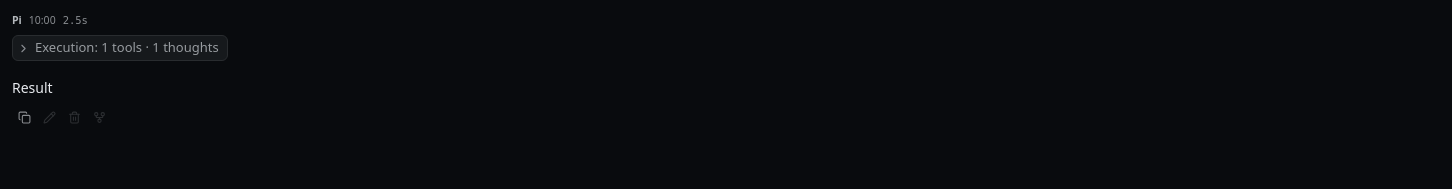
ConversationMessage › shows time above the response and collapses completed execution
expect the element with class "message-header" shows "Pi": met, box [12,13,22,27]
expect the element with class "message-header" shows "10:00": met, box [29,13,56,27]
Click the heading "Execution: 1 tools · 1 thoughts".
click(120, 48)  # box [12,35,228,61]
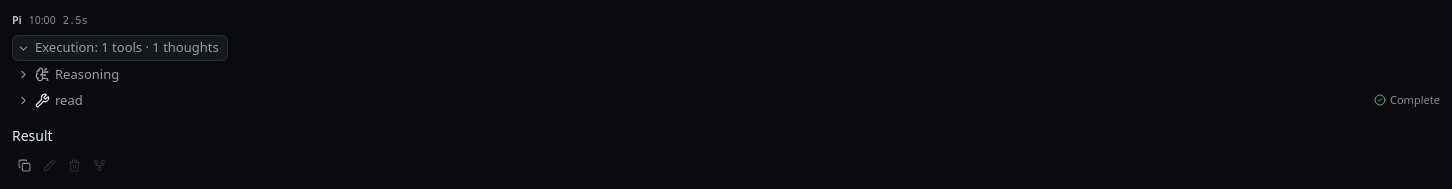
expect the element with class "thinking-block" reads "Reasoning": met, box [55,65,119,83]
